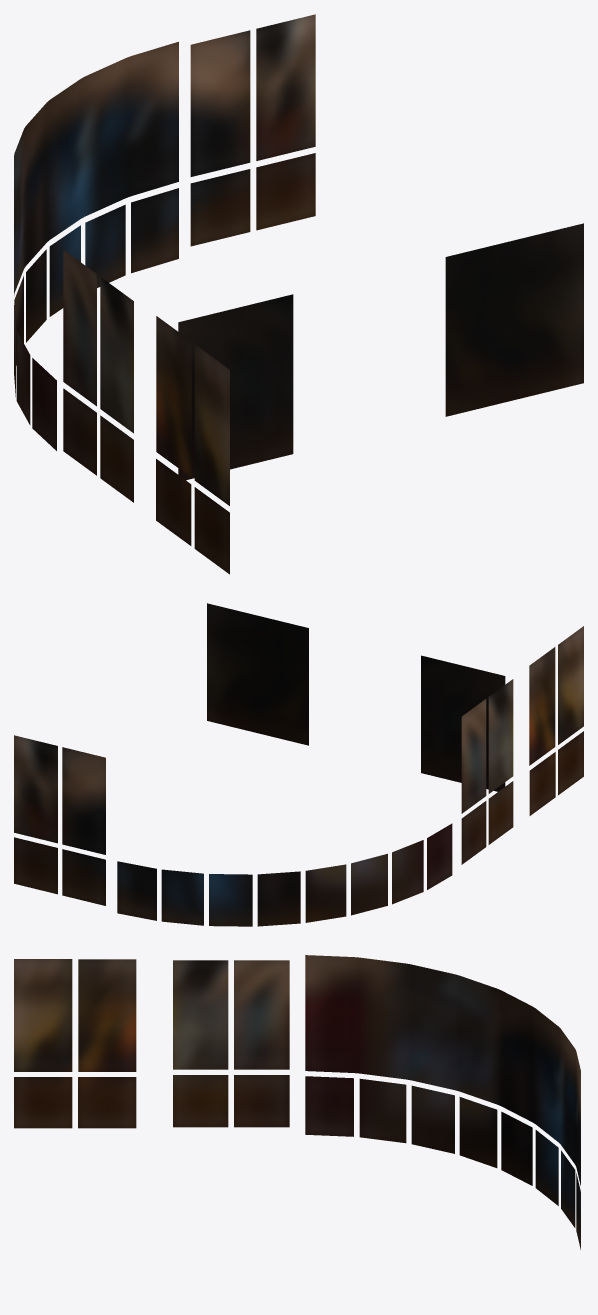
The model's file is GlareWindows.fbx.
3 renders of one model, top to bottom at view 1: azimuth 30°, elevation 25°; view 2: azimuth 150°, elevation 25°; view 3: azimuth 270°, elevation 25°, orthographic. The views are drawn at different scales.
Parts seen in each view (by area): view 1: GlareWindows; view 2: GlareWindows; view 3: GlareWindows.
Boxes of the visible parts, box(x1,y1,x2,y2) form: GlareWindows: box(14, 14, 583, 574); GlareWindows: box(14, 603, 583, 926); GlareWindows: box(14, 955, 580, 1249).
Bounding box in the file's own units: 742 × 356 × 1022.
Materials: 1 (1 with a texture image).
